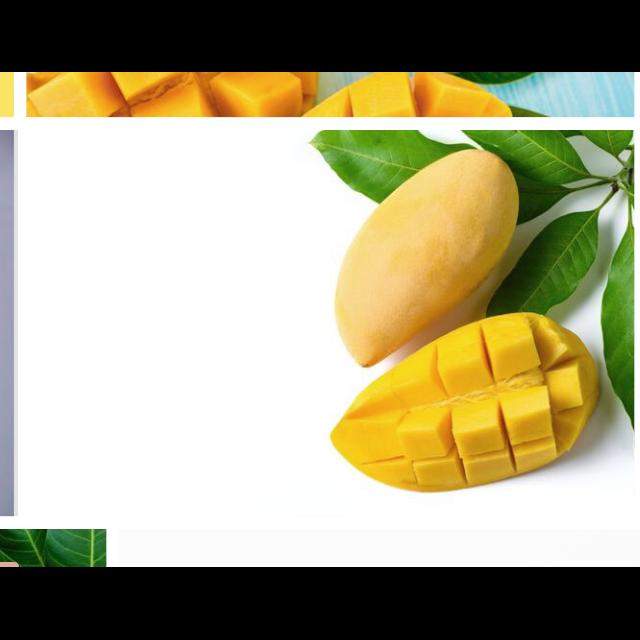mango: (332, 148, 518, 369)
